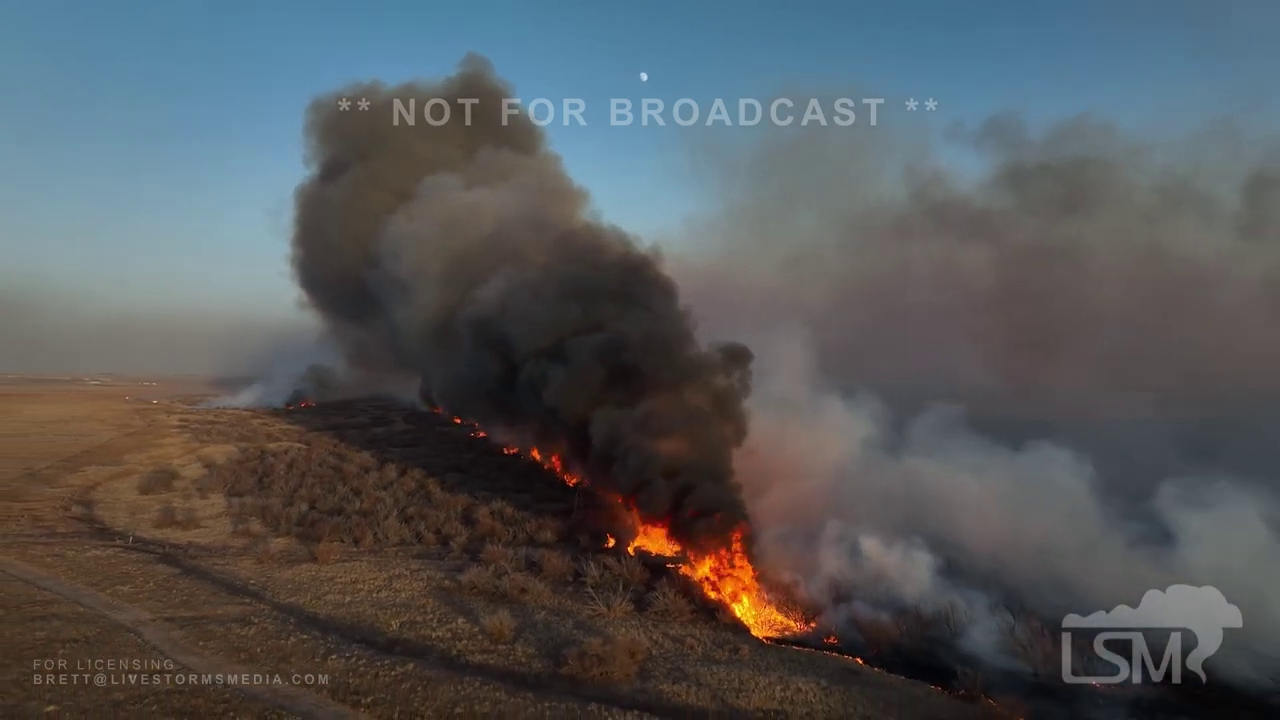forest_fire: (624, 511, 814, 637), (505, 445, 582, 486), (431, 408, 487, 436), (607, 537, 615, 545)
